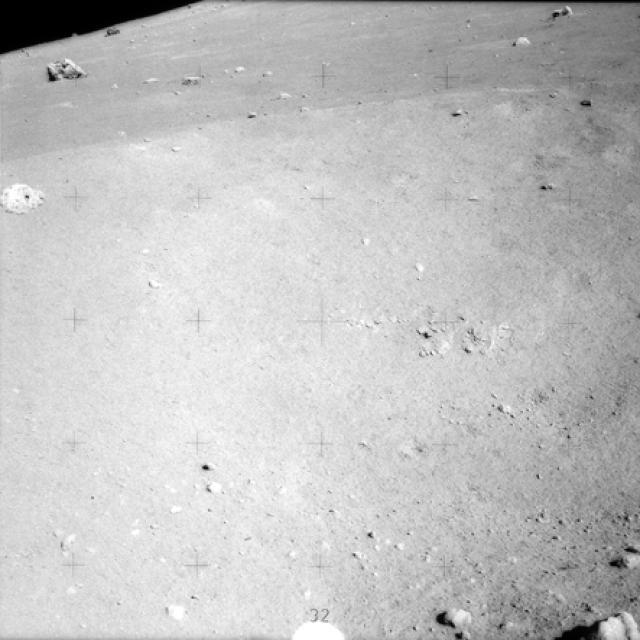rock: (575, 600, 639, 639), (427, 592, 481, 636), (0, 174, 46, 223), (40, 49, 93, 90)
